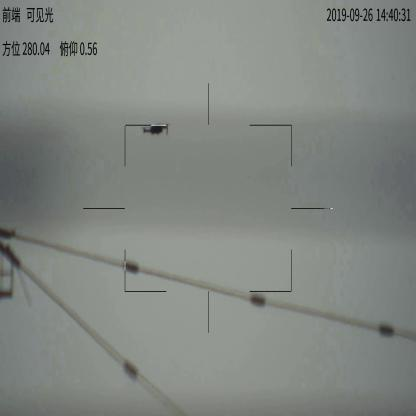uav: (141, 122, 175, 138)
